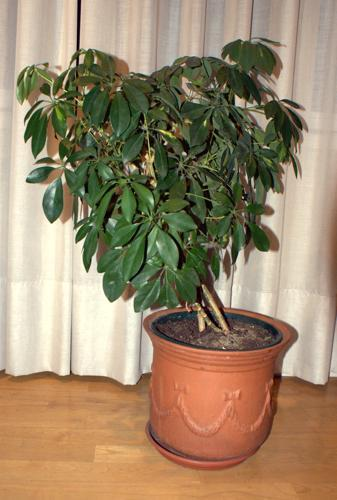Matera: (19, 32, 318, 474)
